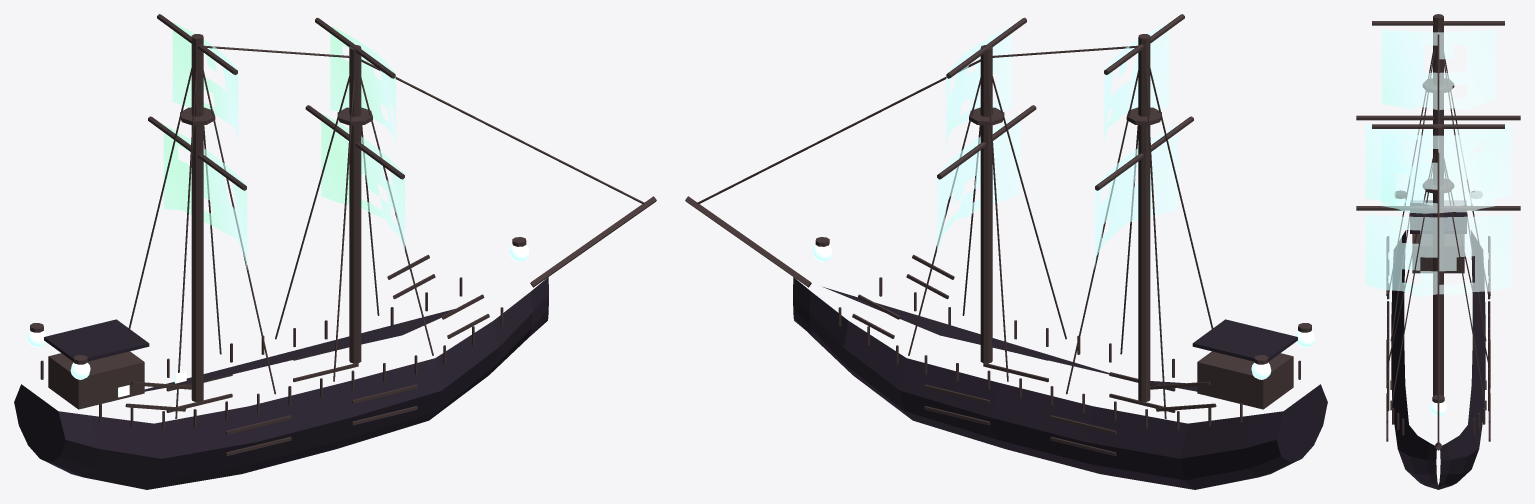
File: ghost-ship.glb
3 renders of one model, left to right at view 1: azimuth 30°, elevation 25°; view 2: azimuth 150°, elevation 25°; view 3: azimuth 270°, elevation 25°, orthographic. The views are drawn at different scales.
Visible parts, largest first — view 1: ship; view 2: ship; view 3: ship, lantern-2.
Boxes of the visible parts, x1,y1,x2,y2 form: ship: (14,14,656,489); ship: (685,14,1327,489); ship: (1356,14,1520,489); lantern-2: (1429,401,1447,416).
Size of the model in its own units: 19.54 by 13.4 by 5.2.
